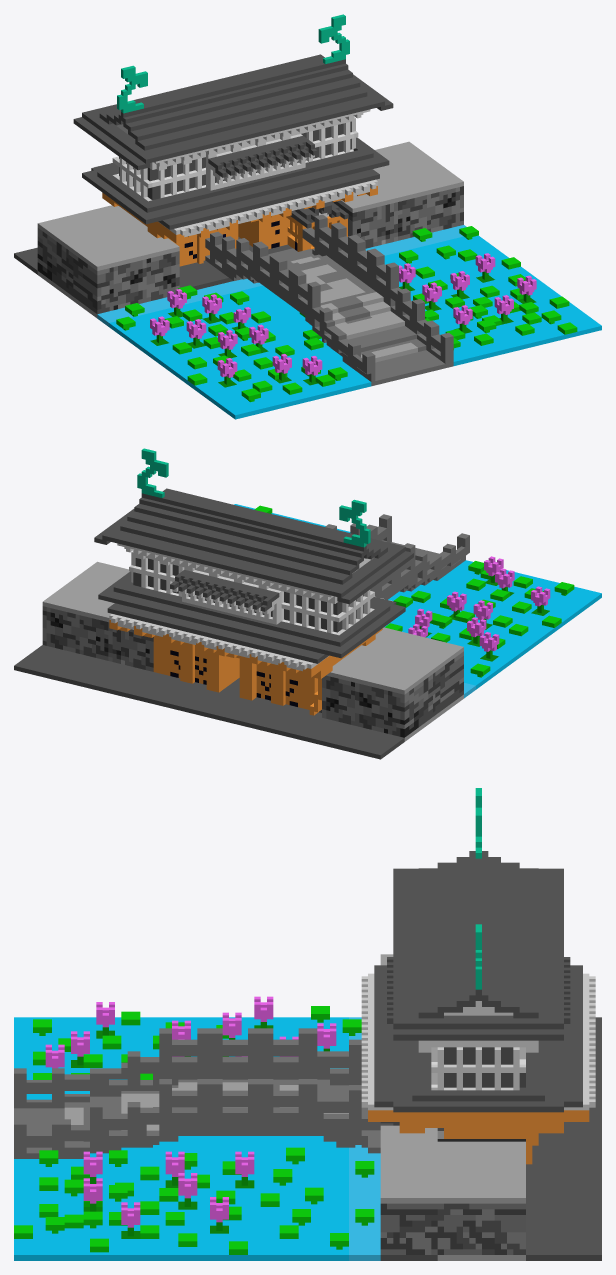
Rendered from goromon.glb.
3 renders of one model, top to bottom at view 1: azimuth 30°, elevation 25°; view 2: azimuth 150°, elevation 25°; view 3: azimuth 270°, elevation 25°, orthographic. The views are drawn at different scales.
Visible parts, largest first — view 1: Untitled; view 2: Untitled; view 3: Untitled.
Part boxes in pixels (<box>): Untitled: <box>14,14,601,419</box>; Untitled: <box>14,448,601,759</box>; Untitled: <box>14,788,601,1260</box>.
Size of the model in its own units: 1.78 by 0.96 by 1.86.
1 material, 1 textured.
